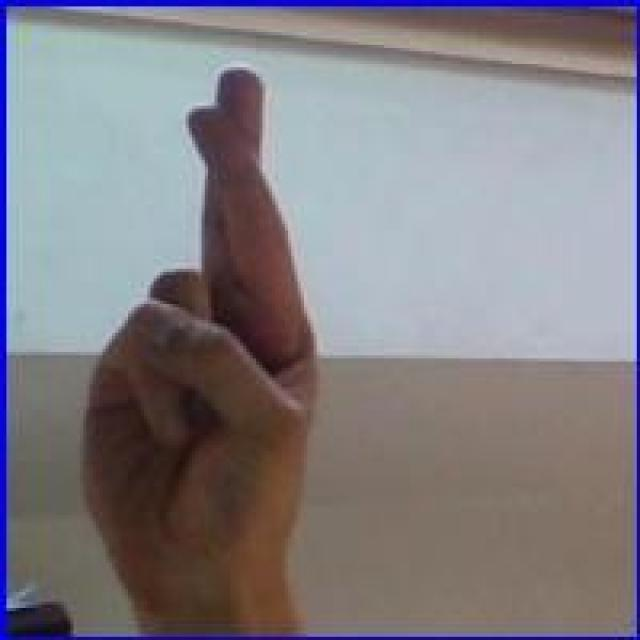R: (70, 60, 327, 586)
